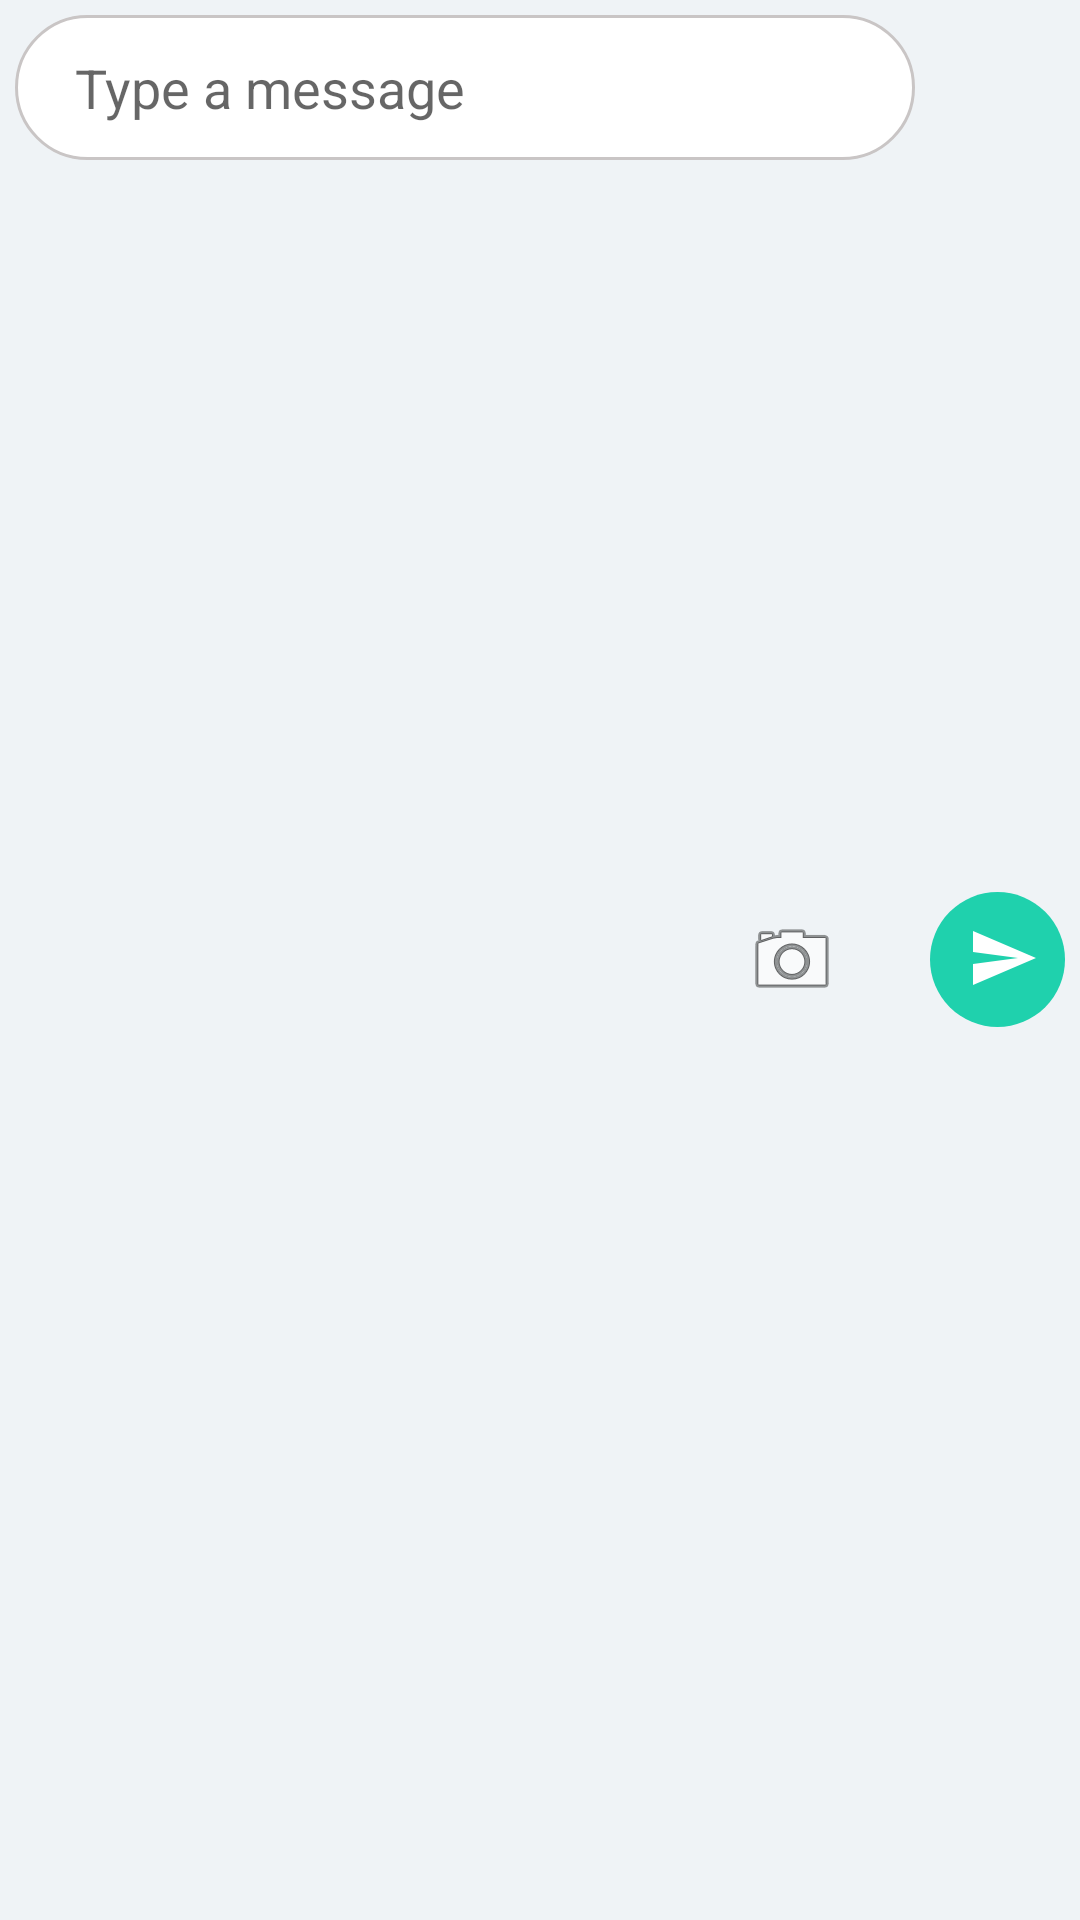

Screen size 1080*1920. Icon name, then its box in pixels as (x1, y1, x2, y2):
camera: (755, 929, 829, 988)
send: (973, 931, 1036, 985)
